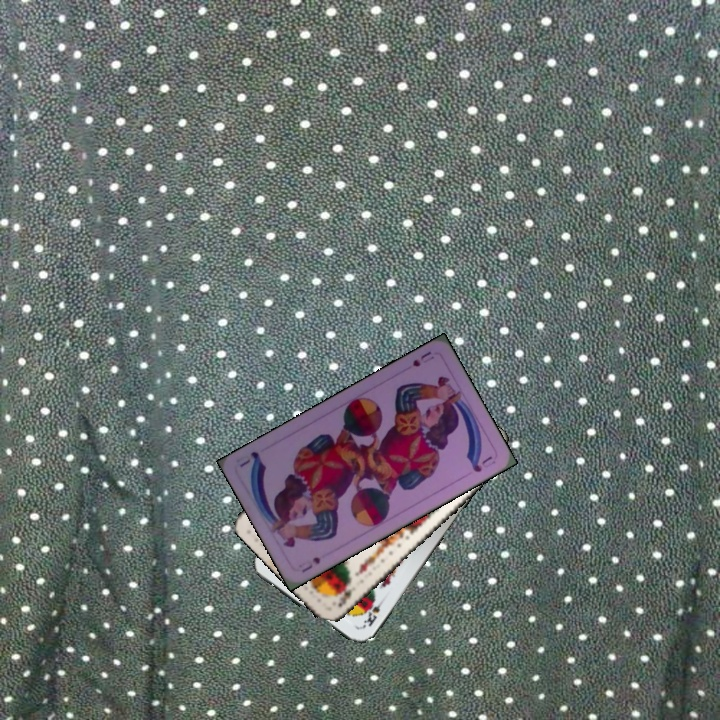SK: (358, 595, 387, 630), (333, 582, 357, 610)
SU: (408, 347, 437, 369), (298, 553, 323, 575)
